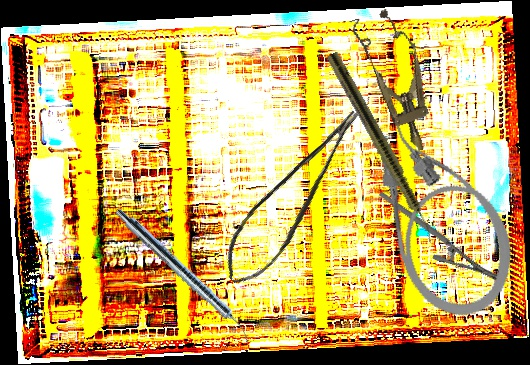Cannula: (360, 99, 529, 331)
Handpiece: (323, 50, 441, 245), (110, 204, 258, 345)
Micro Scissor: (205, 104, 389, 295)
Needle Holder: (378, 162, 505, 311)
Speculum: (346, 3, 449, 160)
